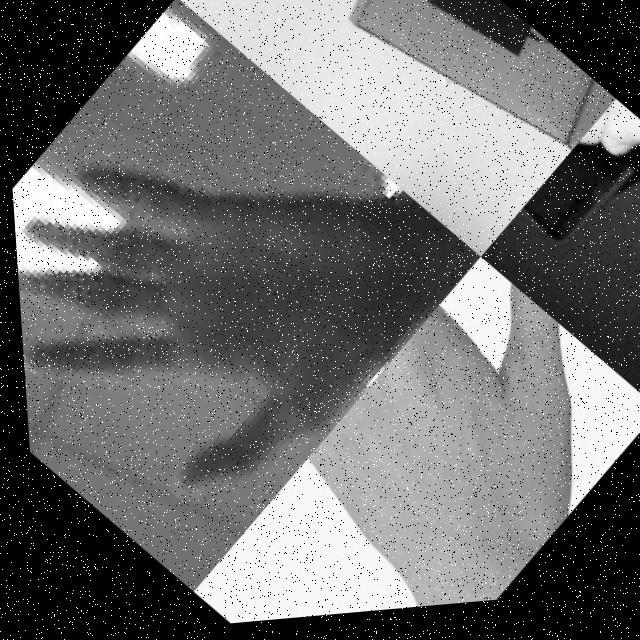no-gloves: (3, 28, 463, 564), (235, 253, 640, 625), (468, 107, 640, 403), (273, 0, 582, 148)
